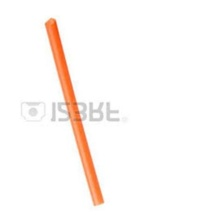drinking_straw: (38, 14, 109, 210)
